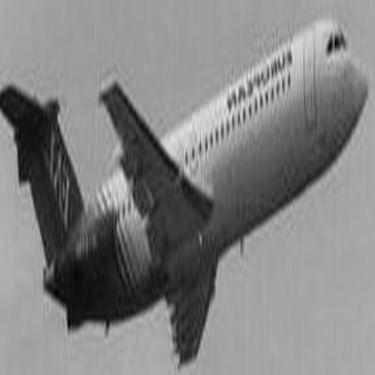airplane: (4, 47, 361, 301)
